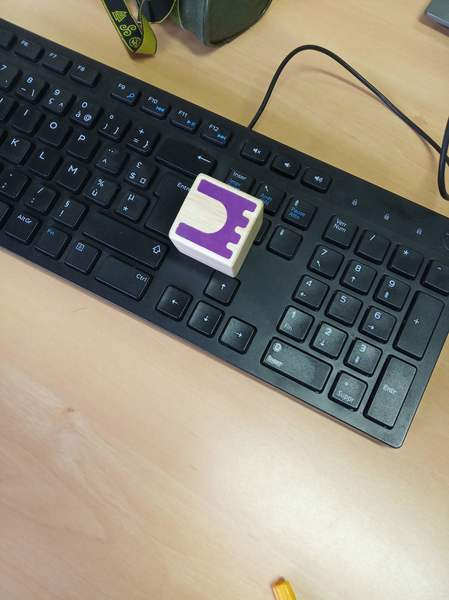violet: (179, 178, 260, 272)
